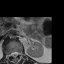CCS_normal: (13, 49, 16, 60)
LFS_normal: (18, 49, 21, 57)
LLS_normal: (16, 49, 18, 58)
RFS_normal: (8, 51, 11, 58)
RLS_normal: (11, 50, 13, 59)
